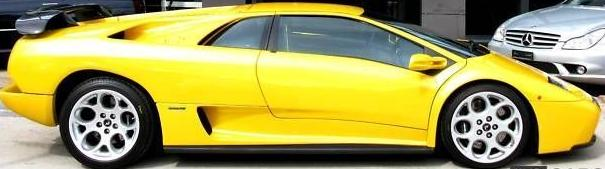side_glass: (203, 9, 454, 78)
